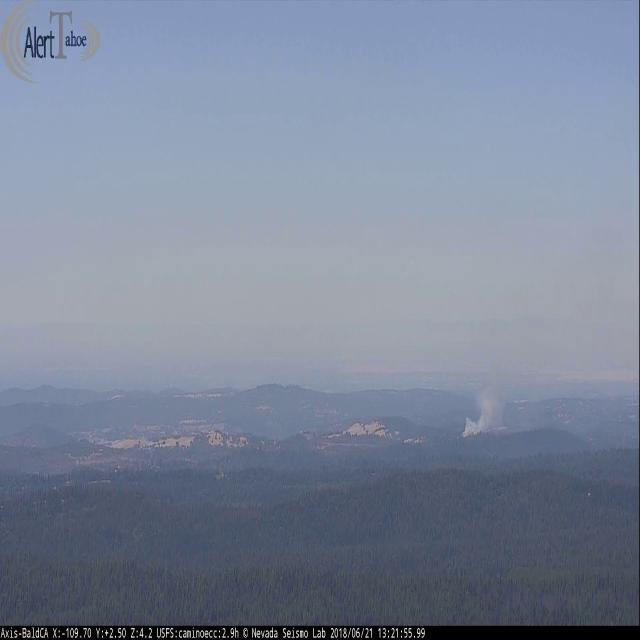smoke: (458, 355, 520, 439)
